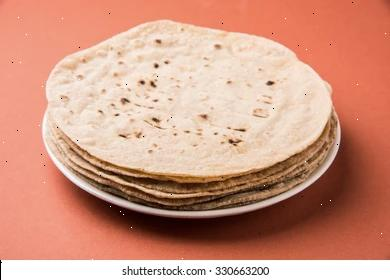roti phulka: (44, 18, 338, 212)
